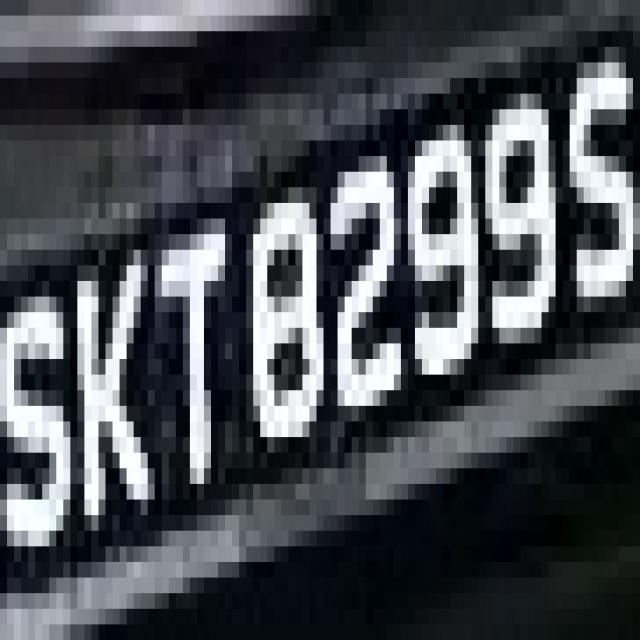2: (316, 125, 408, 437)
8: (218, 187, 331, 453)
9: (464, 62, 556, 390), (387, 94, 478, 422)
K: (63, 218, 162, 562)
S: (7, 250, 77, 593), (6, 0, 7, 10)
T: (134, 187, 239, 531)
